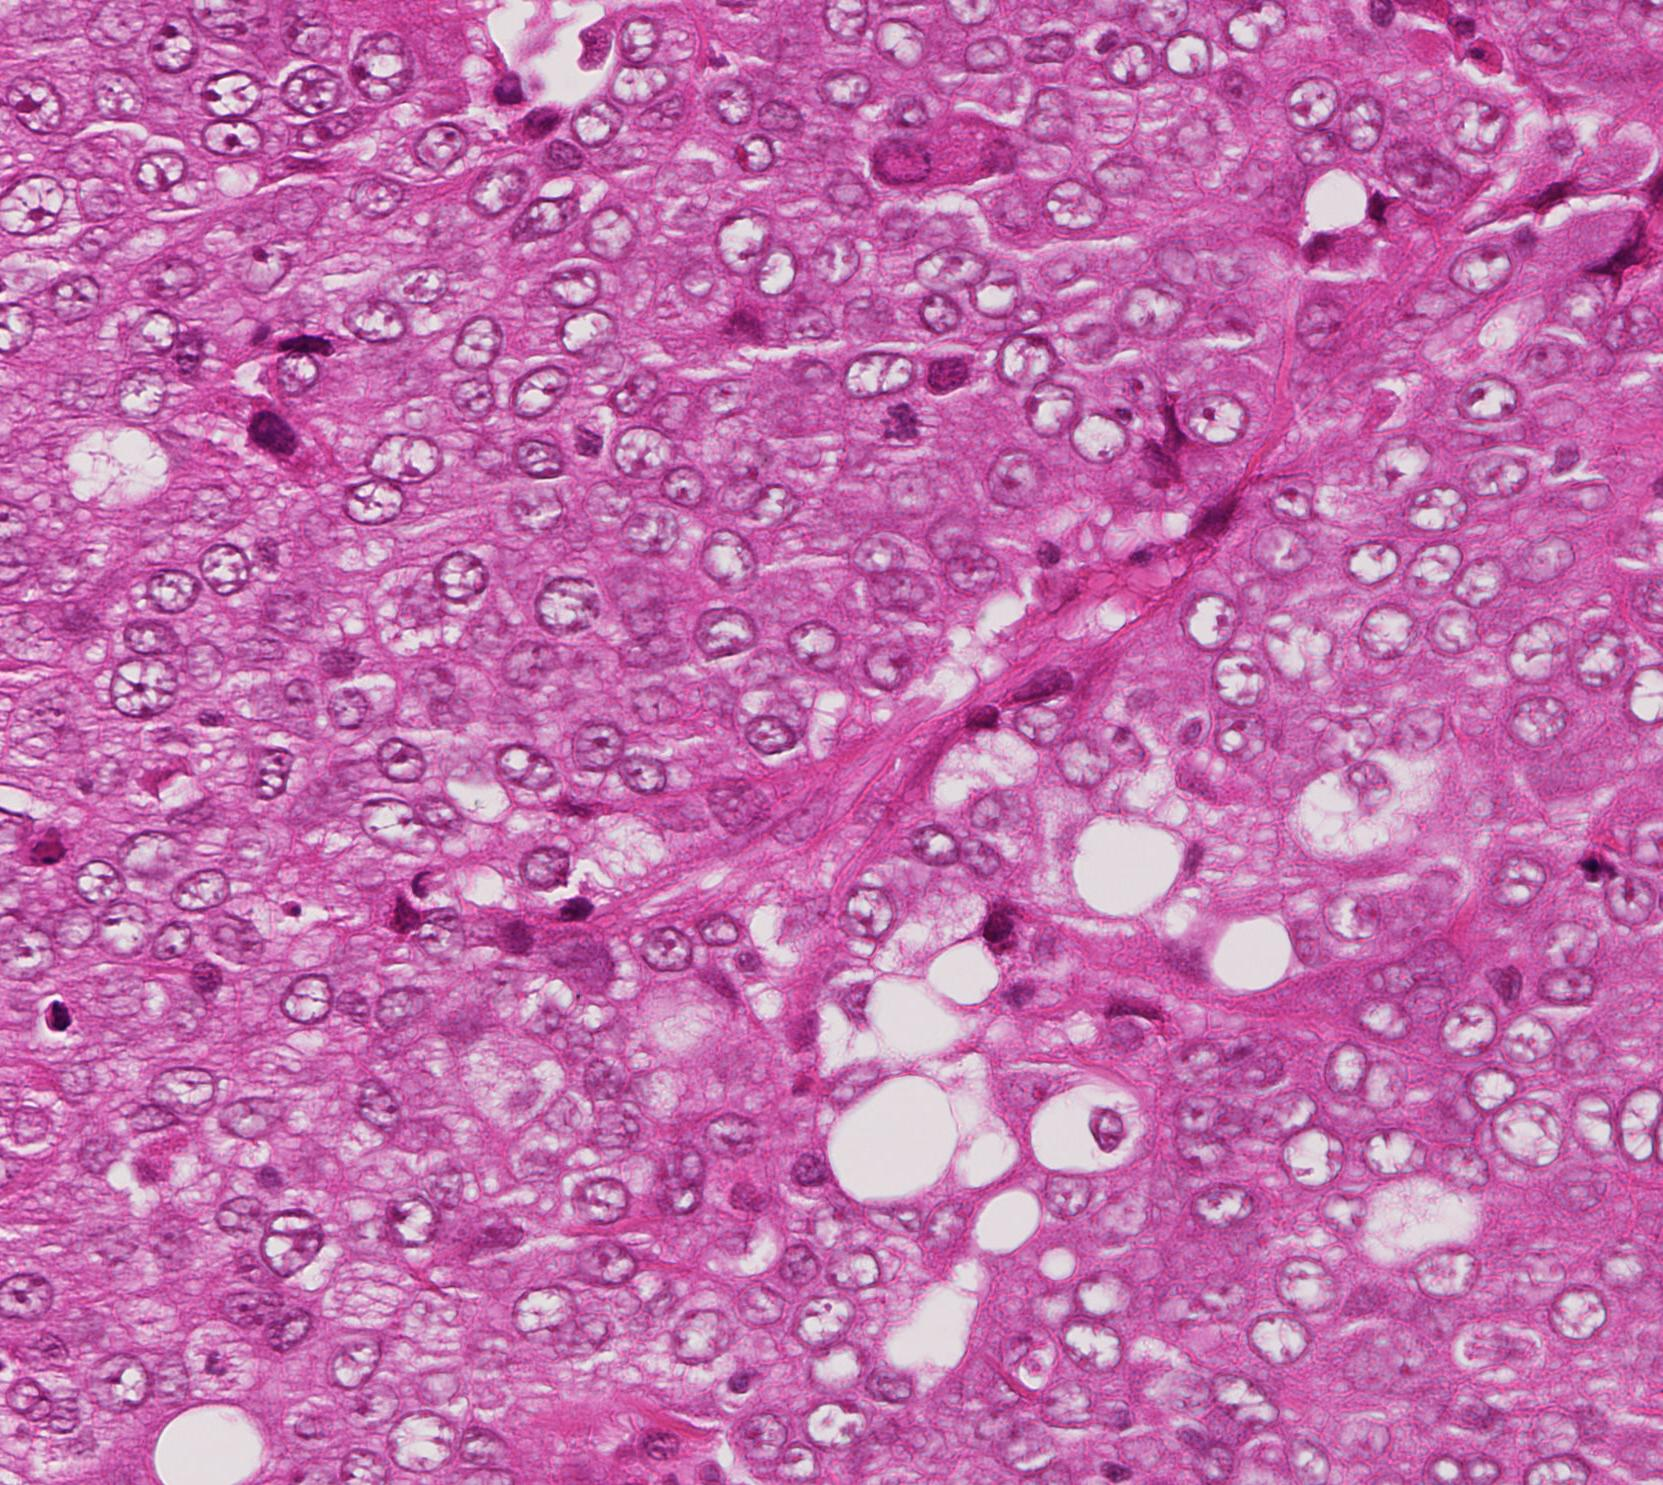mitosis: (882, 398, 940, 459)
